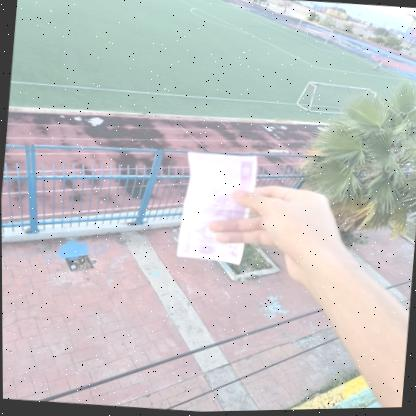one_hundred-back-vef: (174, 150, 259, 268)
